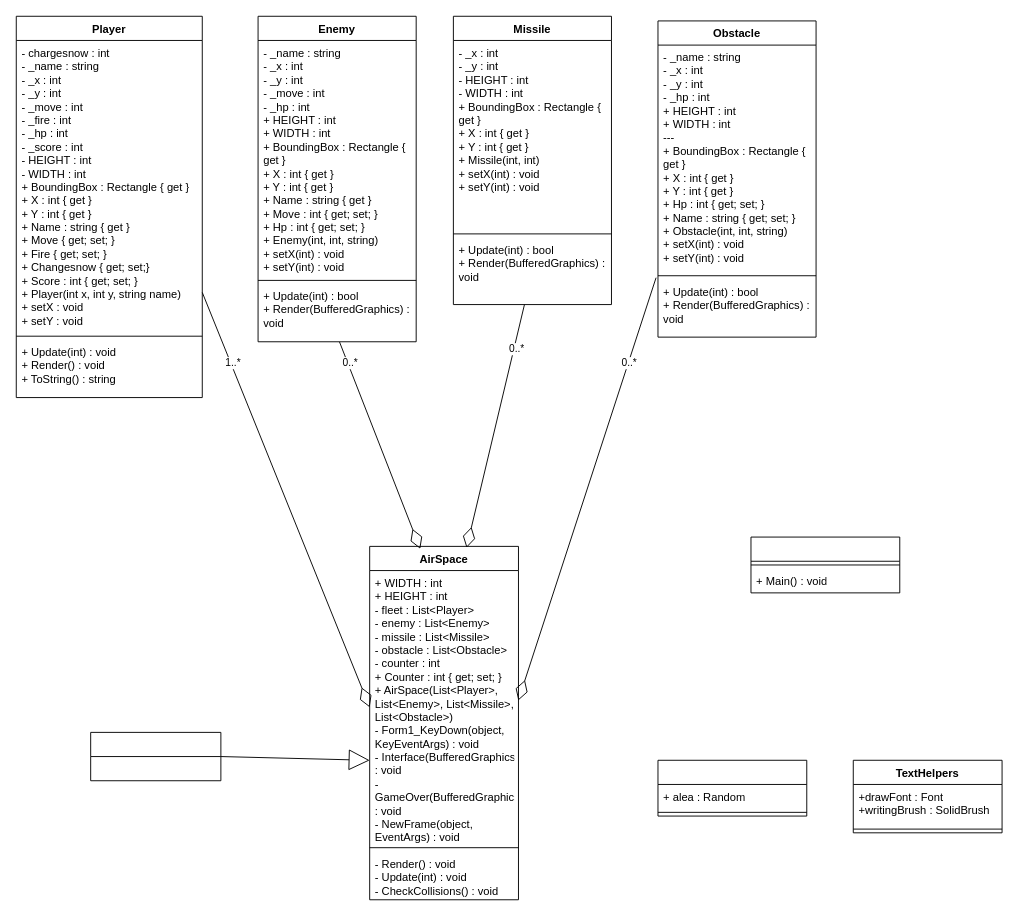
Image size: 1018x919. Some labels were removed from this diagram. Each missing label, with the box of its shape:
Form: (90, 731, 221, 781)
GlobalHelpers: (657, 759, 807, 816)
Program: (750, 536, 900, 593)
